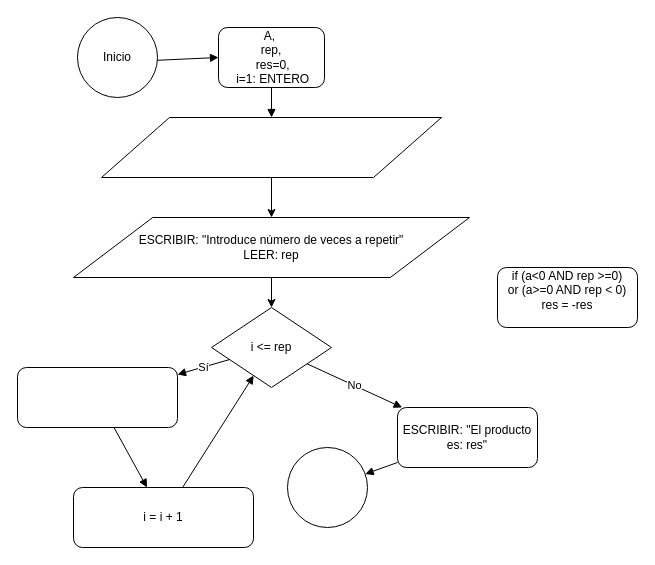
This 655x565 diagram has some shape labels left out. The centre of each missing label's shape, as x and y in pixels:
ESCRIBIR: "Introduce número A" LEER: A: the point at 271,147
Fin: the point at 327,487
res = res + A: the point at 97,397
